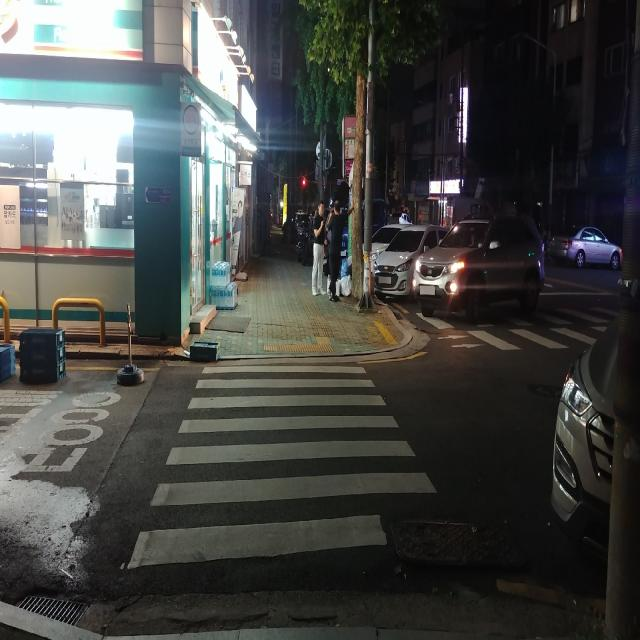횡단보도: (125, 360, 439, 576), (421, 306, 615, 360)
